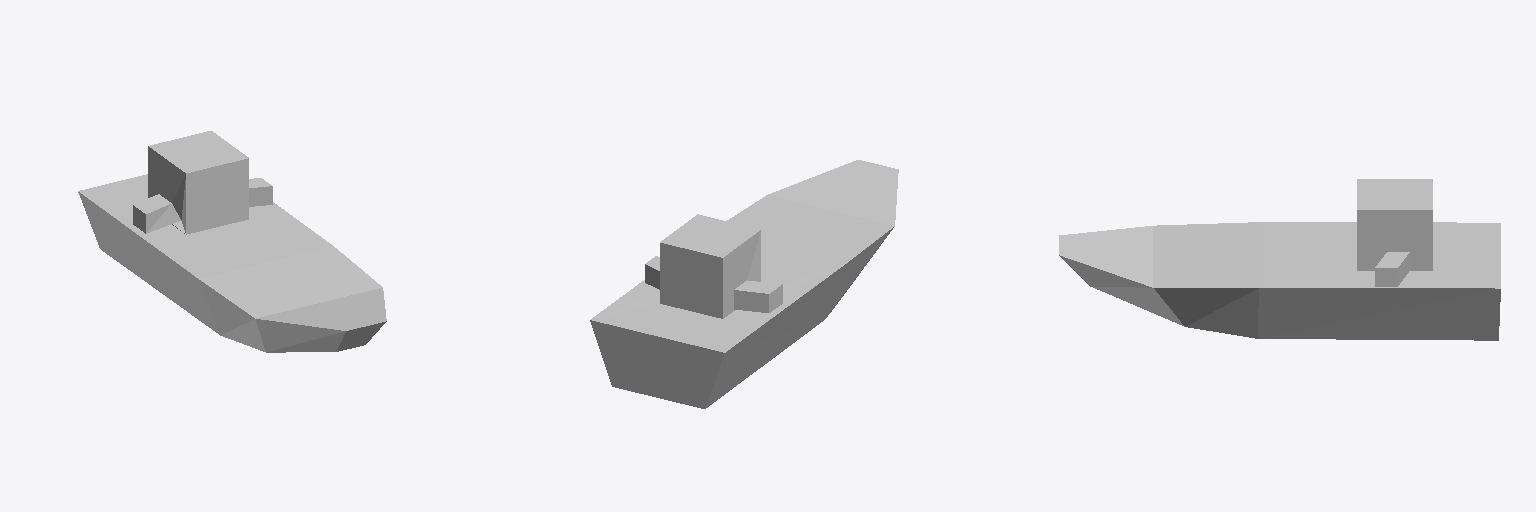
Rendered from player_simple.obj.
3 views of the same model, side by side, from view 1: azimuth 30°, elevation 25°; view 2: azimuth 150°, elevation 25°; view 3: azimuth 270°, elevation 25° (orthographic).
Visible parts, largest first — view 1: 立方体; view 2: 立方体; view 3: 立方体.
Part boxes in pixels (x1,y1,x2,y2): 立方体: (78,131,386,352); 立方体: (590,160,898,408); 立方体: (1059,179,1500,340).
Size of the model in its own units: 2.06 by 1.81 by 5.85.